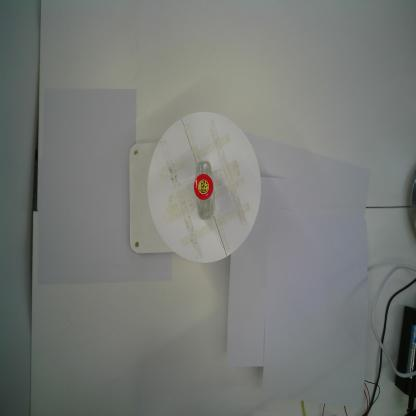Alcohol: (190, 158, 216, 223)
